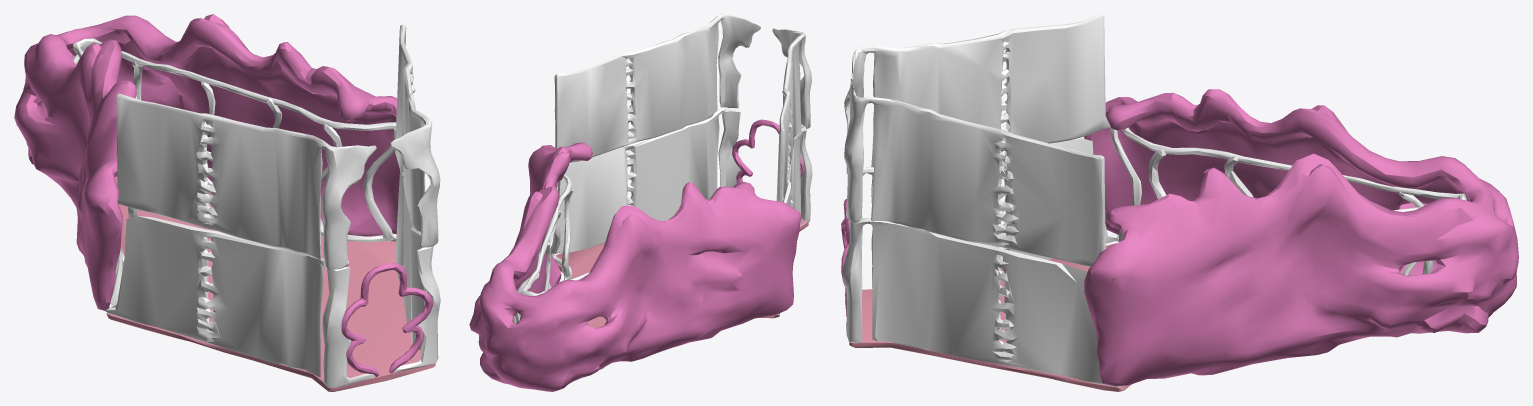
3 renders of one model, left to right at view 1: azimuth 30°, elevation 25°; view 2: azimuth 150°, elevation 25°; view 3: azimuth 270°, elevation 25°, orthographic. The views are drawn at different scales.
Parts seen in each view (by area): view 1: Retopo_Layer_1.002; view 2: Retopo_Layer_1.002; view 3: Retopo_Layer_1.002.
Boxes of the visible parts, bbox=[...] form: Retopo_Layer_1.002: bbox=[14, 14, 440, 391]; Retopo_Layer_1.002: bbox=[469, 14, 812, 391]; Retopo_Layer_1.002: bbox=[841, 14, 1518, 391].
Bounding box in the file's own units: 2.98 × 2.11 × 5.11.
